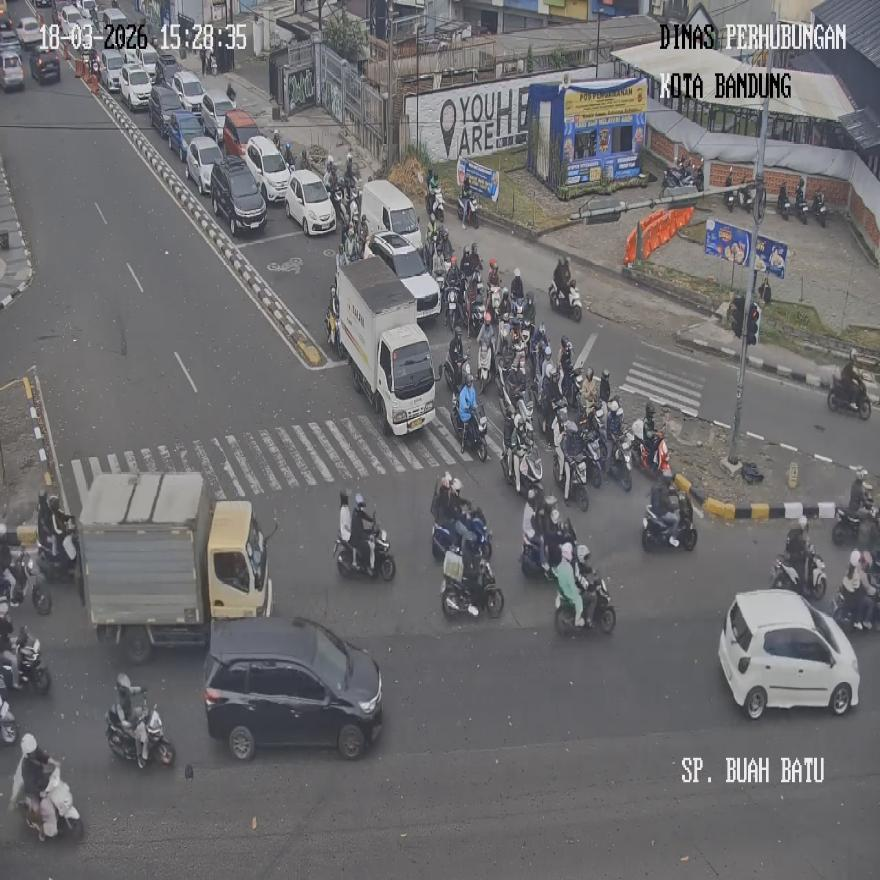Motor: (202, 615, 382, 759), (717, 586, 859, 718)
Truk: (107, 705, 174, 768), (441, 554, 505, 618), (24, 775, 84, 841), (554, 574, 615, 634), (333, 523, 394, 582), (431, 504, 492, 562), (0, 548, 52, 614), (770, 543, 826, 600), (0, 634, 51, 696), (643, 493, 697, 551), (553, 424, 588, 510), (501, 435, 543, 496), (831, 579, 877, 630), (36, 528, 78, 583), (631, 421, 670, 480), (452, 398, 488, 461), (832, 499, 878, 548), (827, 373, 870, 418), (521, 528, 555, 579), (605, 426, 631, 492), (583, 426, 605, 488), (550, 281, 582, 323), (443, 352, 468, 395), (476, 338, 492, 392), (0, 698, 18, 744), (442, 285, 460, 330), (469, 288, 485, 337), (326, 302, 340, 357), (457, 193, 478, 229), (810, 190, 826, 228), (740, 180, 757, 215), (794, 184, 808, 223), (724, 168, 736, 212), (777, 182, 789, 221)
